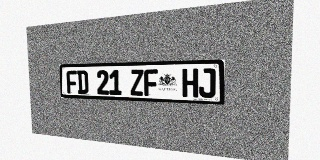1: (109, 70, 121, 95)
2: (97, 70, 109, 95)
D: (77, 70, 88, 94)
F: (144, 69, 158, 96), (66, 70, 77, 94)
H: (182, 68, 198, 97)
J: (199, 68, 216, 98)
Z: (130, 69, 144, 96)
